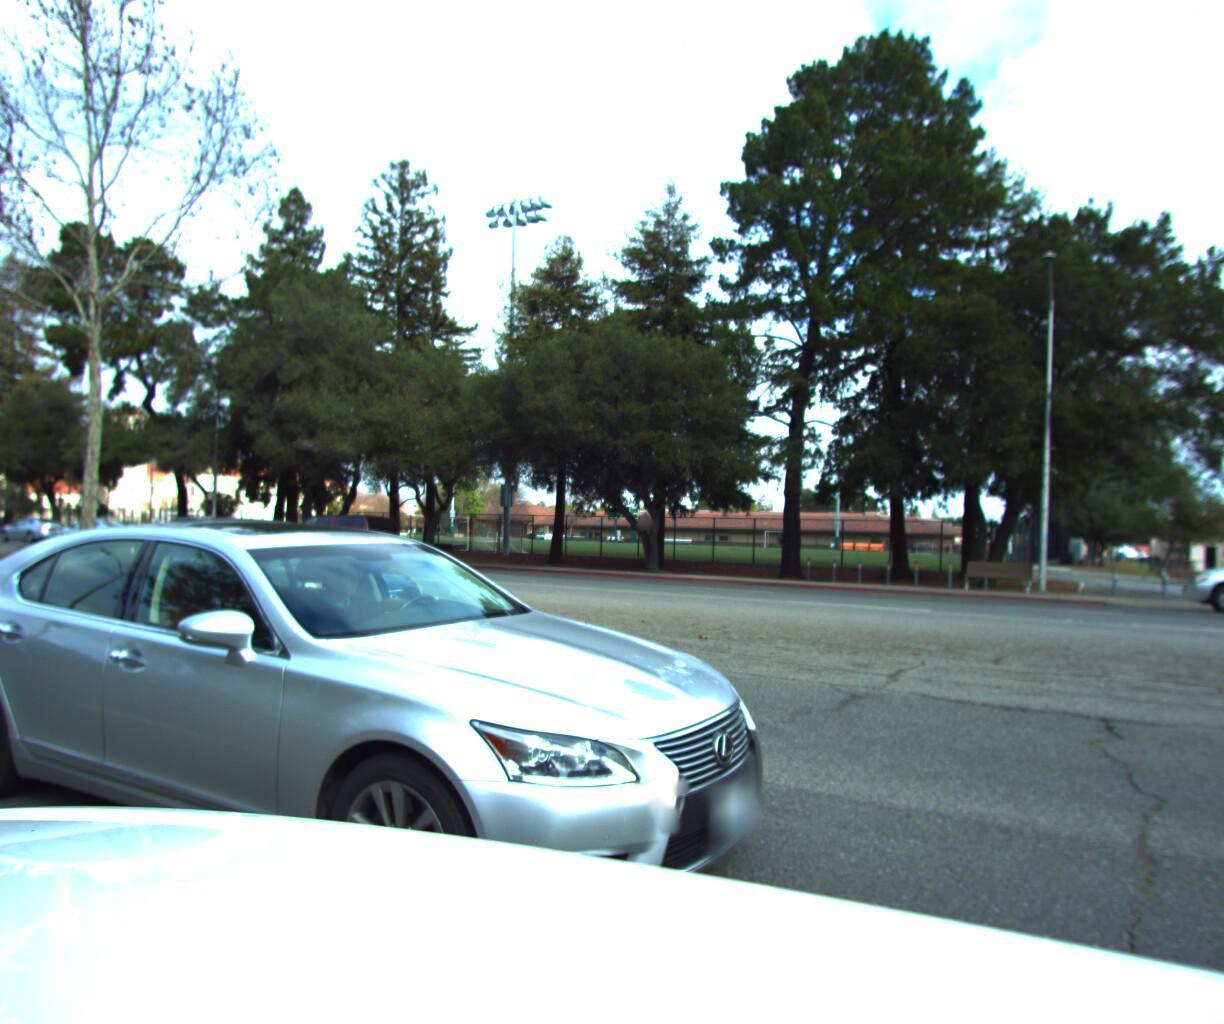car: (0, 513, 827, 1024), (84, 509, 472, 668), (265, 506, 403, 563), (1176, 533, 1224, 633), (134, 509, 243, 553), (48, 513, 140, 547), (0, 511, 77, 545)
